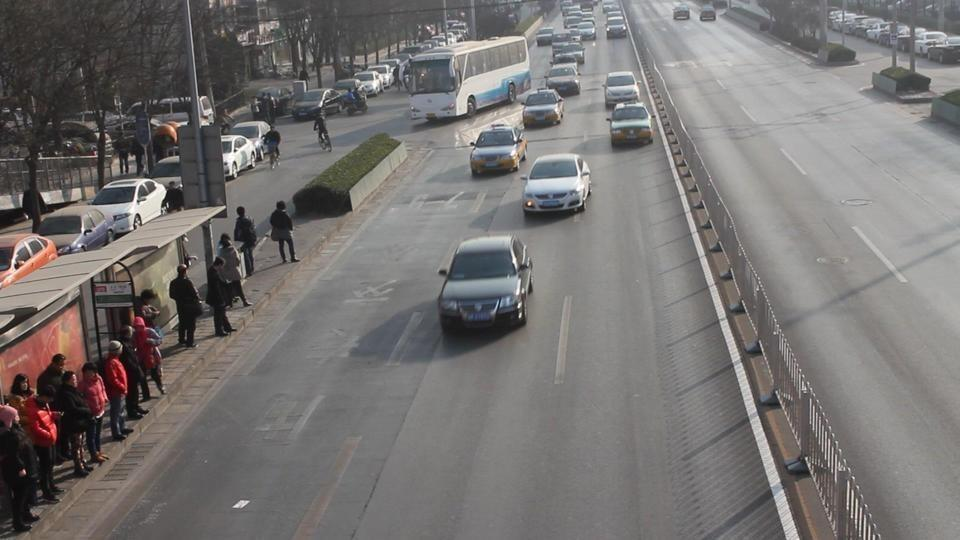car: (436, 234, 535, 334), (39, 187, 159, 246), (87, 176, 168, 235), (522, 153, 592, 214), (36, 204, 112, 255), (0, 232, 59, 289), (469, 123, 529, 177), (608, 103, 655, 149), (289, 88, 343, 121), (521, 89, 565, 128), (221, 134, 256, 178), (229, 120, 271, 150), (148, 154, 184, 188), (546, 64, 580, 98), (604, 71, 638, 105), (550, 39, 585, 72), (917, 34, 958, 61), (353, 71, 384, 97), (570, 19, 596, 40), (605, 16, 628, 39), (700, 5, 717, 22), (672, 4, 690, 20)
